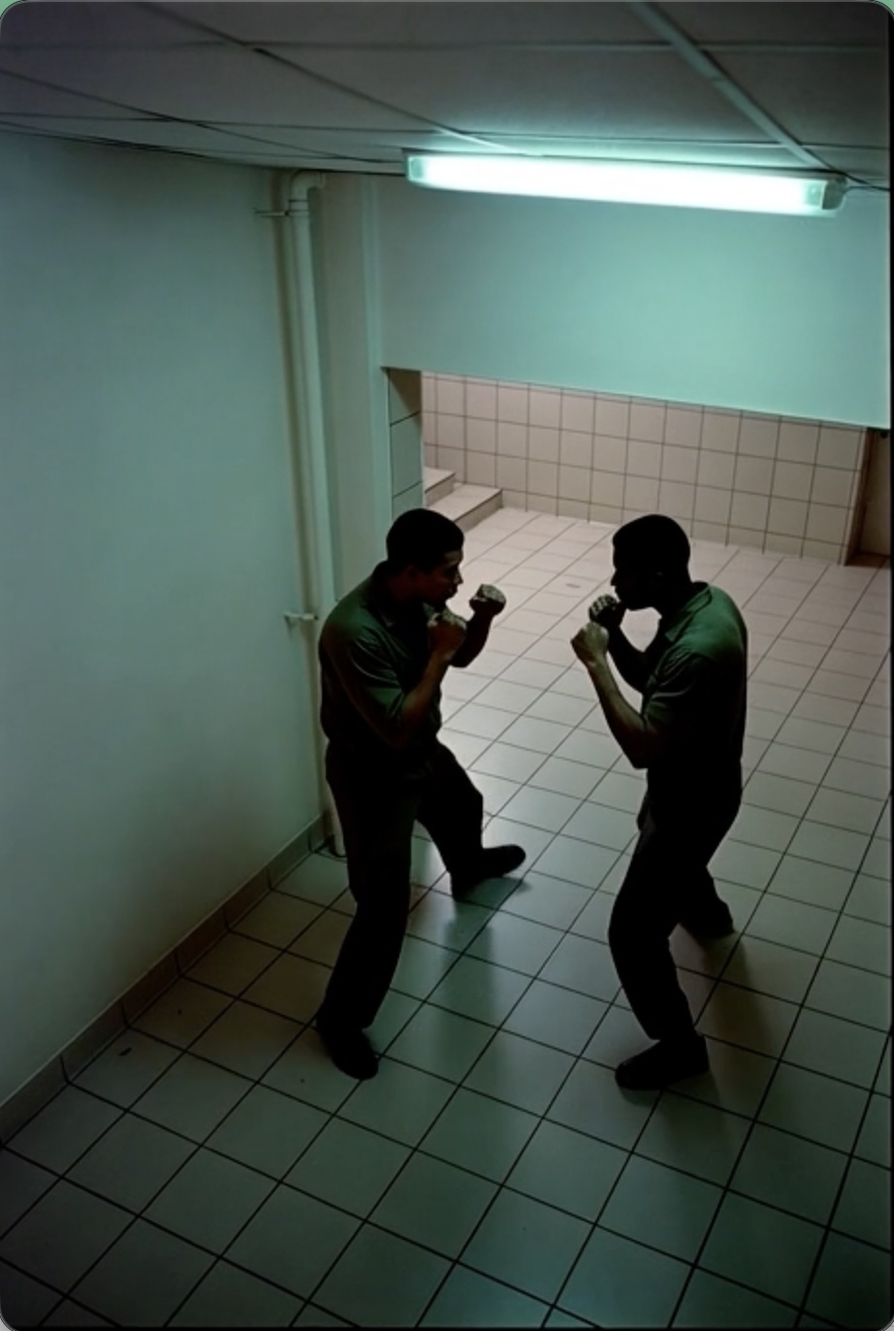Assault: (570, 513, 754, 1095)
Fighting: (312, 507, 528, 1081)
